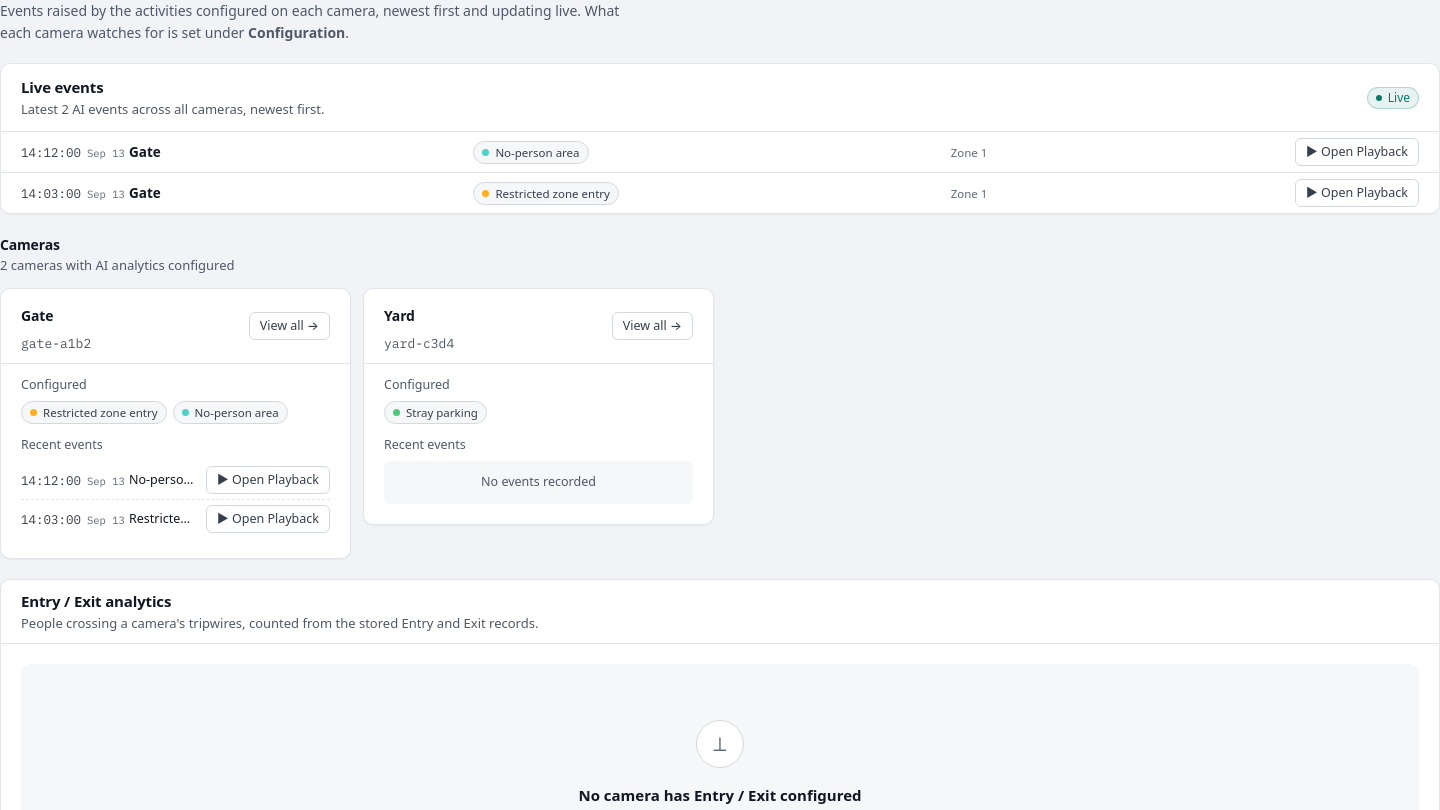
EventsTab › opens a camera and filters its events by activity and date
This screenshot has width=1440, height=810.
Click the button "View all →" next to "gate-a1b2" at {"x": 289, "y": 326}, box [249,312,330,340]
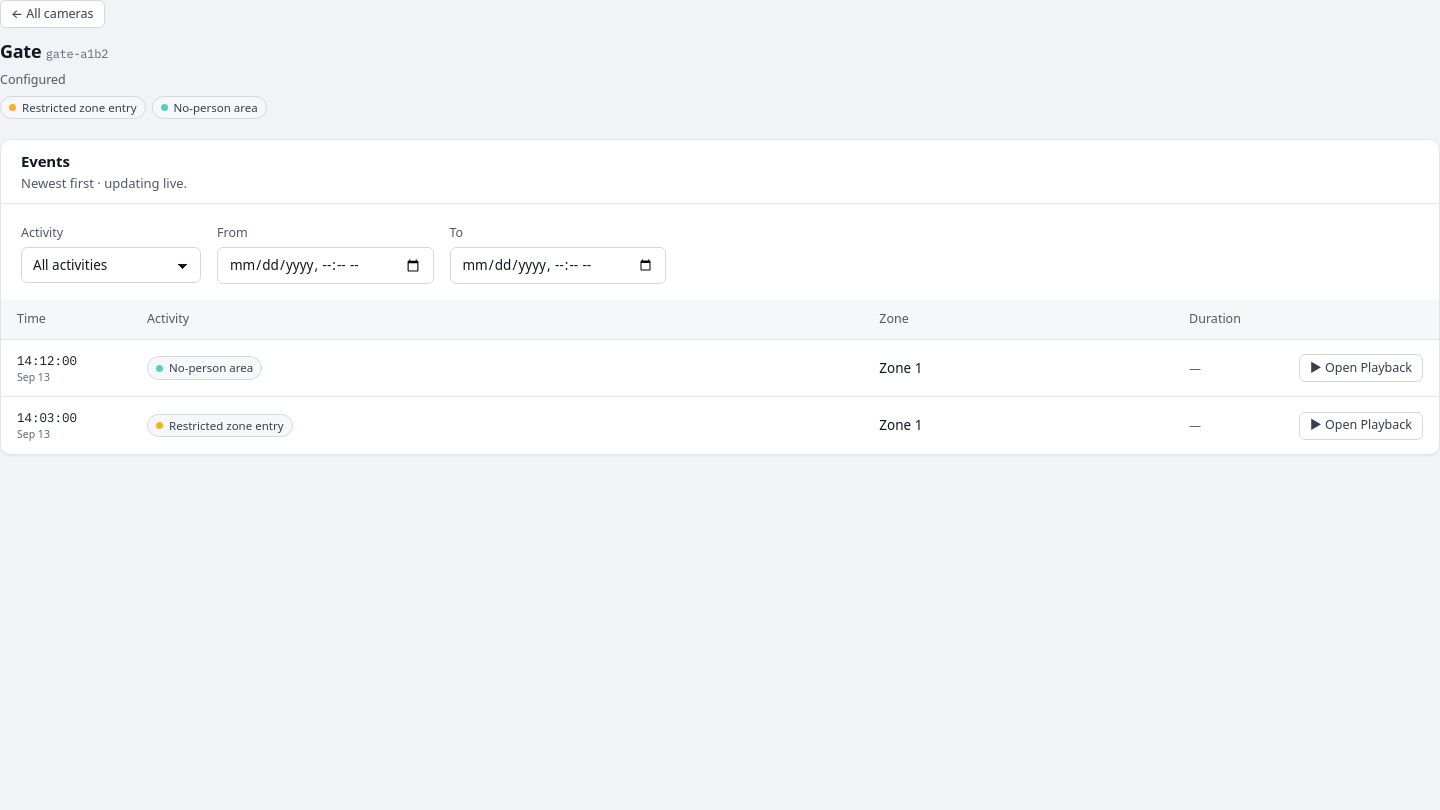
Select "No-person area" in the dropdown labelled "Activity" at {"x": 111, "y": 265}, box [21,247,201,283]
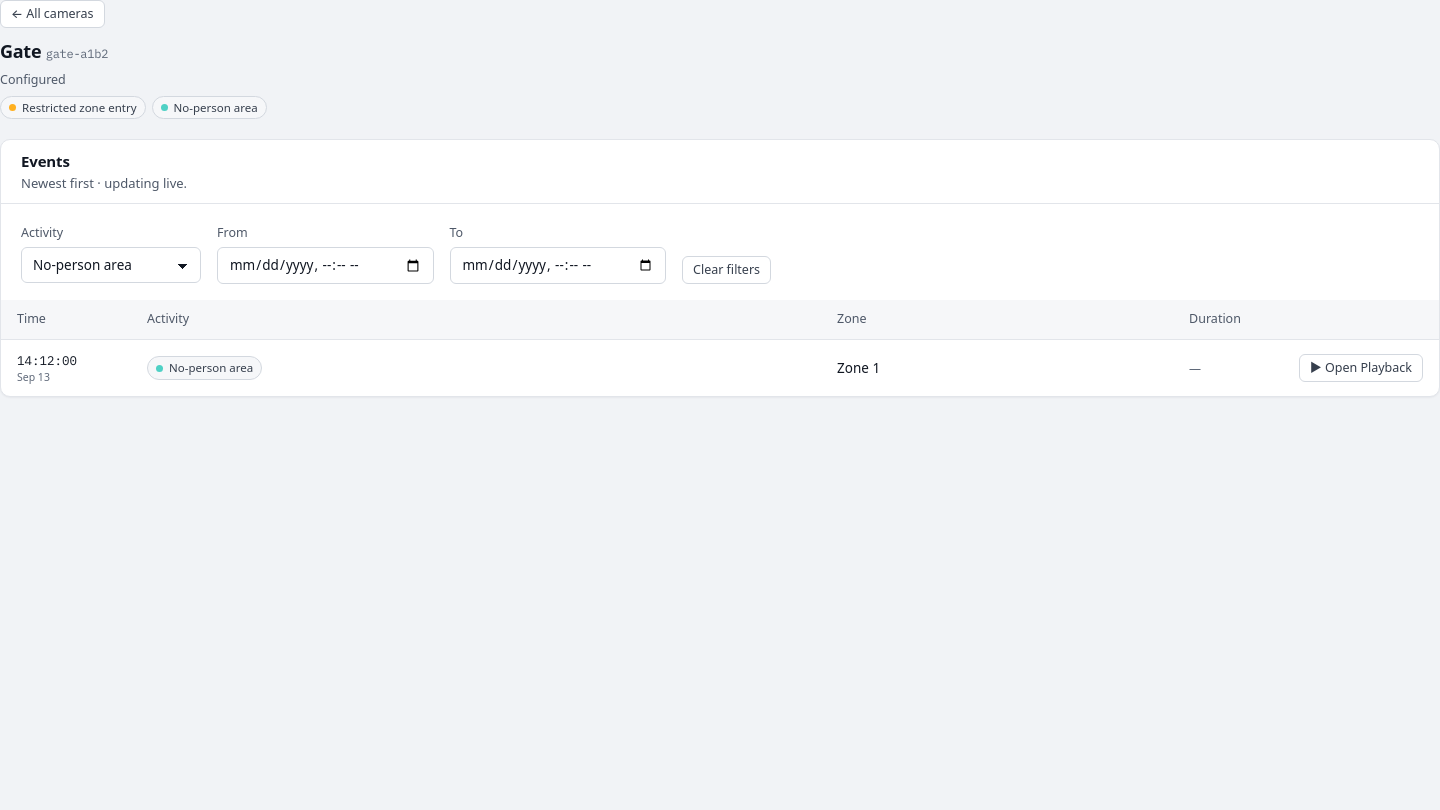
Type "2026-09-13T10:00" into the field named "From" at {"x": 325, "y": 266}, box [217,247,434,284]
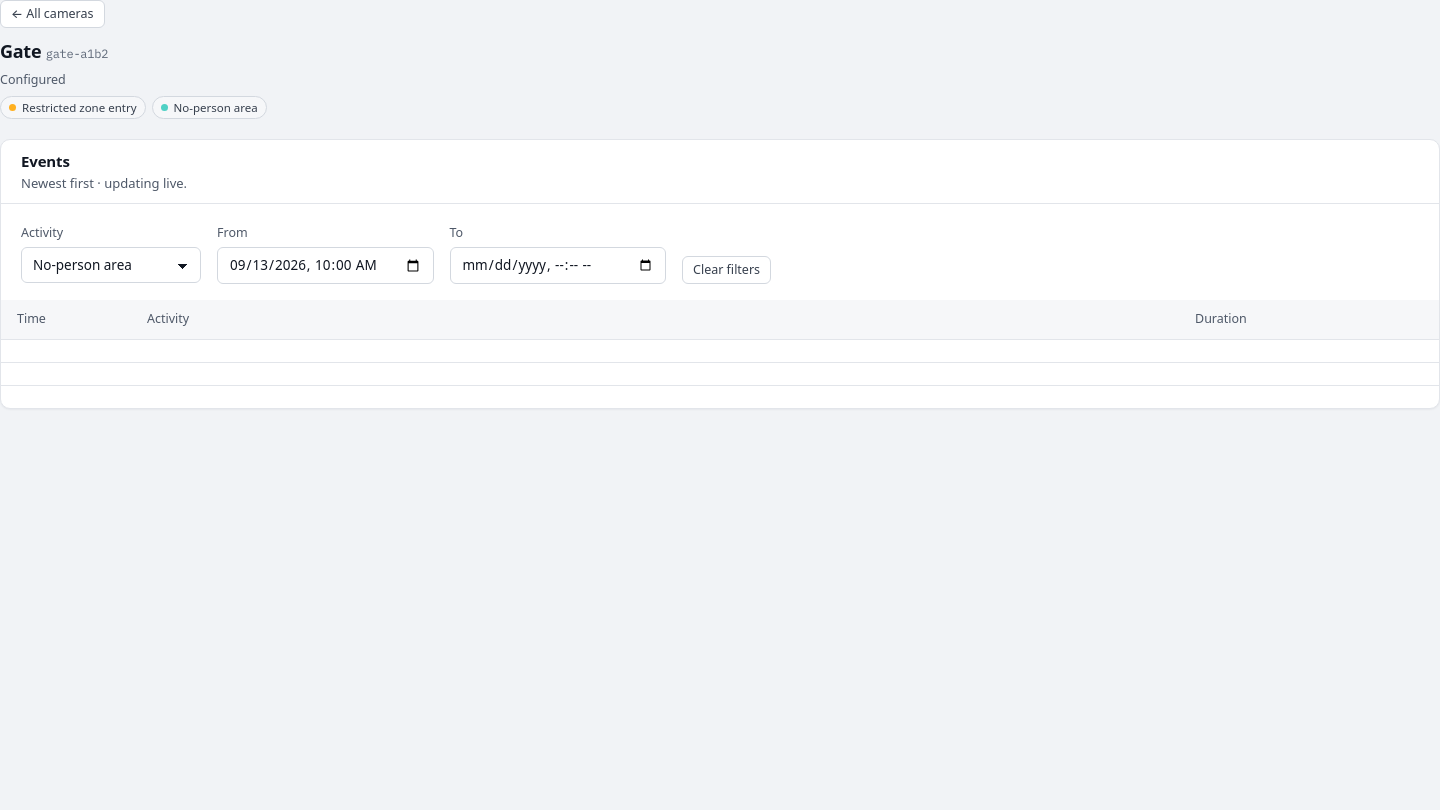
Type "2026-09-13T18:00" into the field named "To" at {"x": 558, "y": 266}, box [450,247,666,284]
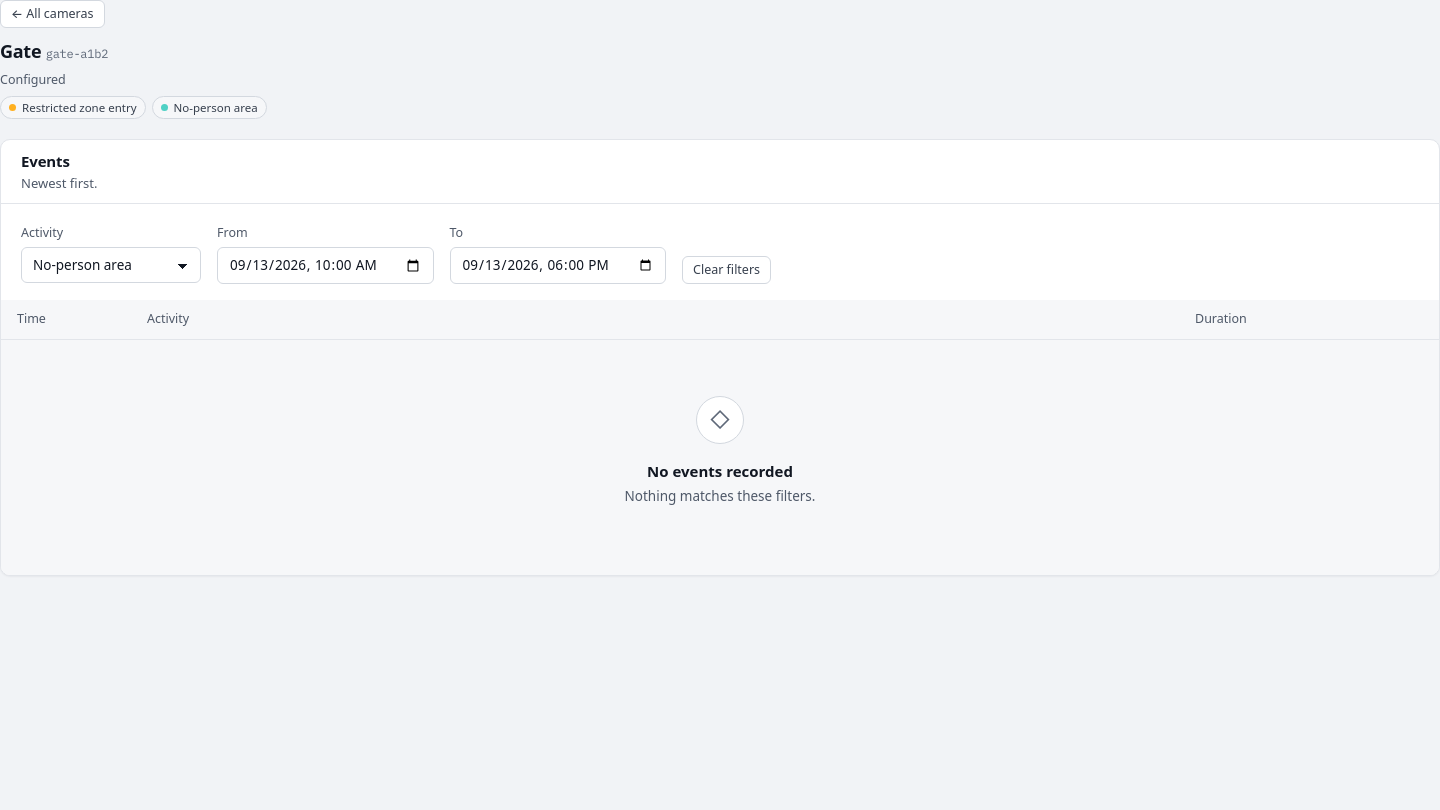
expect the heading "No events recorded" is shown: met, box [647,460,793,482]
expect the text "Nothing matches these filters." is shown: met, box [624,486,816,507]
